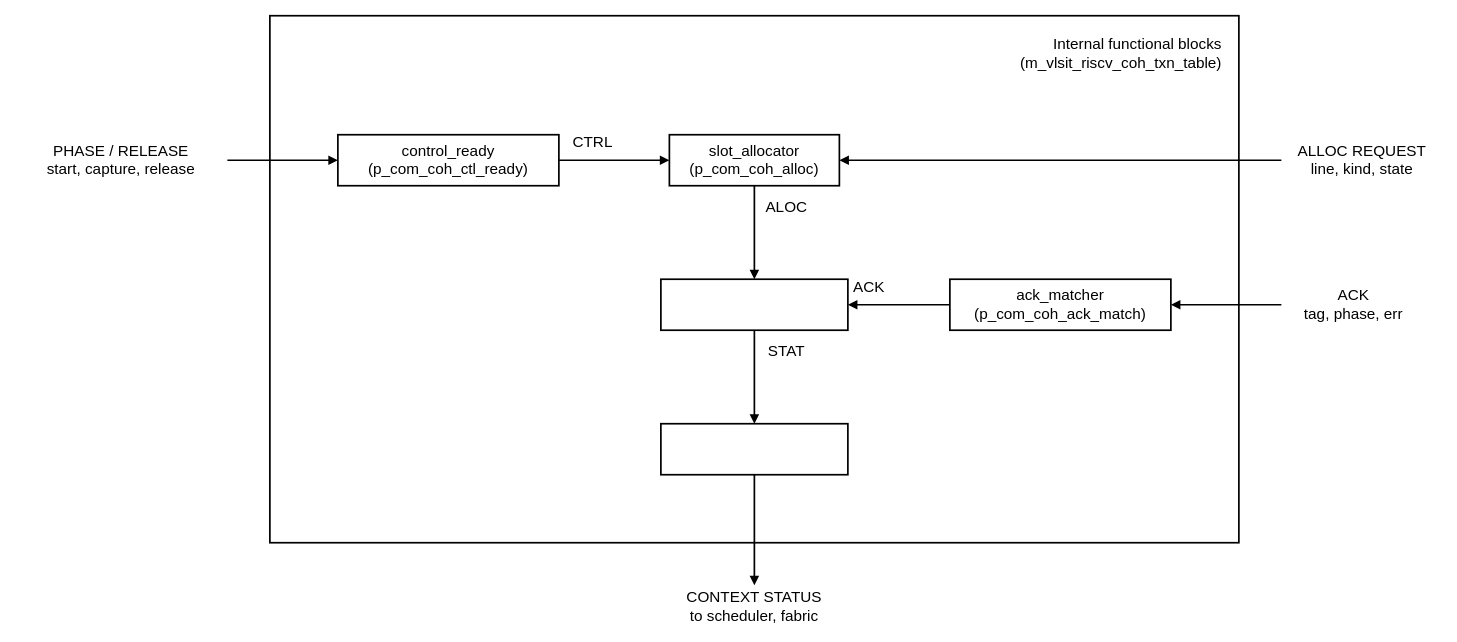
Some shapes in this 1457 by 642 pixel diagram are drawn without their labels. Here are the shapes that lost their labels. From the top down, the centre of each, then its label:
At point (754, 304): "context_registers (p_ff_coh_context)".
At point (754, 448): "context_status_out (o_ctx_*)".
